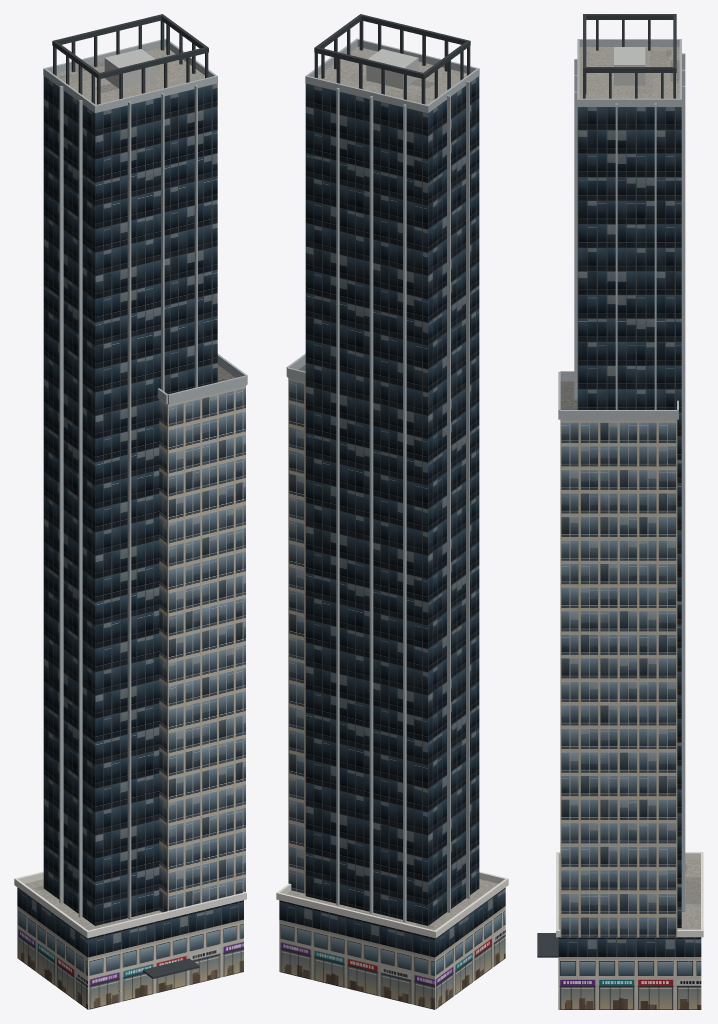
The model's file is OW_CaoOc_VP_KhoiLech_152.fbx.
3 renders of one model, left to right at view 1: azimuth 30°, elevation 25°; view 2: azimuth 150°, elevation 25°; view 3: azimuth 270°, elevation 25°, orthographic.
Visible parts, largest first — view 1: OW_CaoOc_VP_KhoiLech_152_LOD0; view 2: OW_CaoOc_VP_KhoiLech_152_LOD0; view 3: OW_CaoOc_VP_KhoiLech_152_LOD0.
Boxes of the visible parts, left/top/right/bottom form: OW_CaoOc_VP_KhoiLech_152_LOD0: left=14, top=14, right=247, bottom=1009; OW_CaoOc_VP_KhoiLech_152_LOD0: left=276, top=14, right=508, bottom=1009; OW_CaoOc_VP_KhoiLech_152_LOD0: left=537, top=14, right=703, bottom=1009.
Size of what is drawn, in the model's own units: 29.15 by 158 by 25.55.
